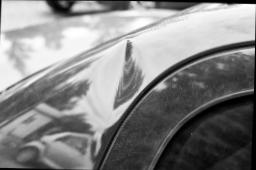Fender: (0, 28, 170, 170)
